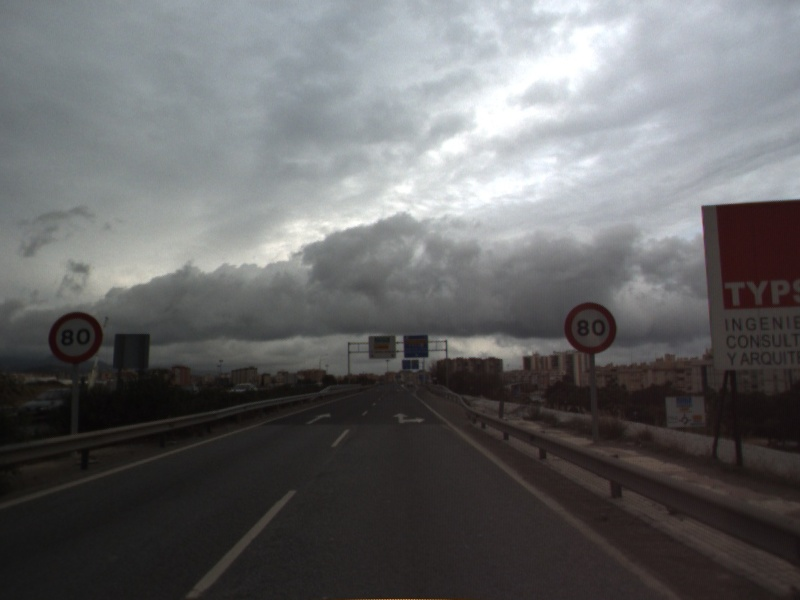STRAIGHT: (303, 410, 333, 426)
STRAIGHT_RIGHT: (391, 410, 428, 426)
